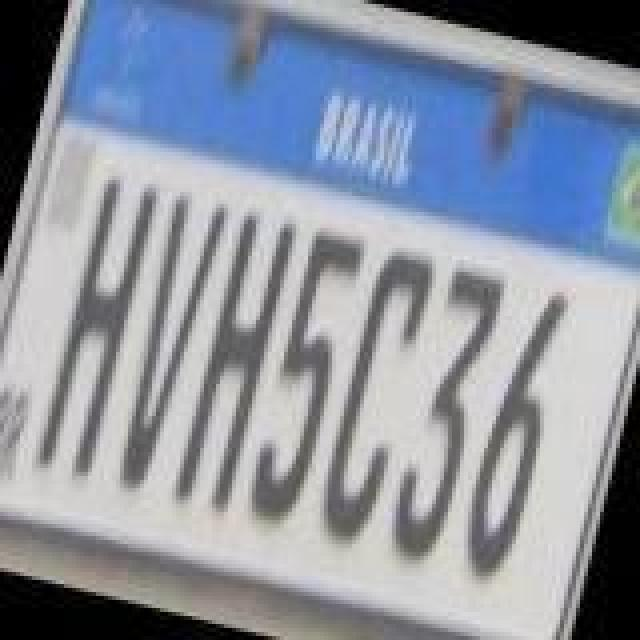3: (386, 262, 510, 570)
5: (240, 228, 368, 532)
6: (452, 278, 580, 586)
C: (308, 240, 444, 552)
H: (166, 206, 298, 522), (30, 172, 162, 484)
V: (106, 190, 230, 498)
